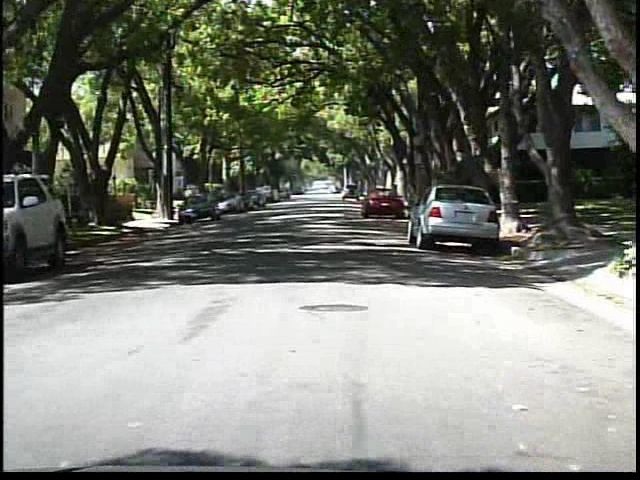person: (181, 183, 199, 216)
